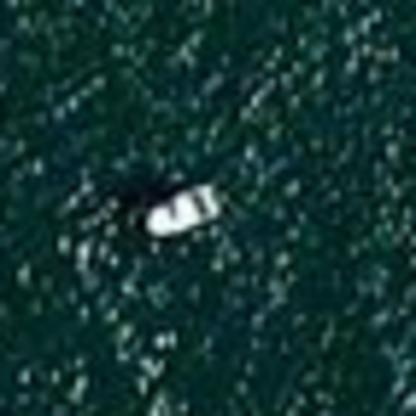ship: (139, 176, 227, 242)
